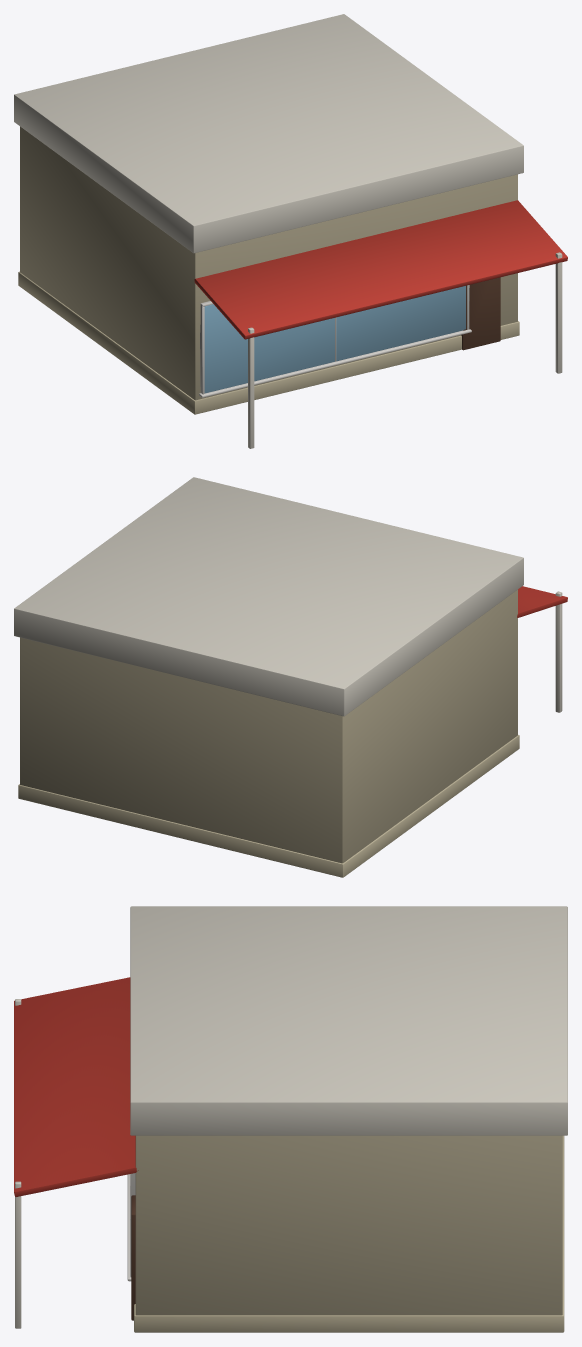
The model's file is hs-11bcjet.glb.
The picture shows the model from 3 angles, top to bottom: view 1: azimuth 30°, elevation 25°; view 2: azimuth 150°, elevation 25°; view 3: azimuth 270°, elevation 25°; orthographic projection. The views are drawn at different scales.
Size of the model in its own units: 8.7 by 4.8 by 10.38.
